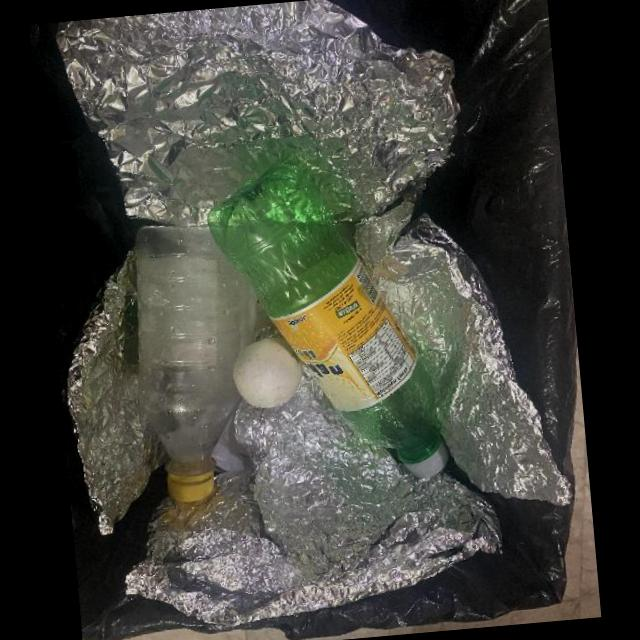chai_nhua: (207, 162, 449, 479)
chai_nhua_pet: (134, 224, 242, 501)
nhom: (125, 377, 500, 623), (60, 0, 458, 224), (356, 199, 572, 504), (67, 254, 167, 534)
vo_trung: (233, 337, 303, 407)
